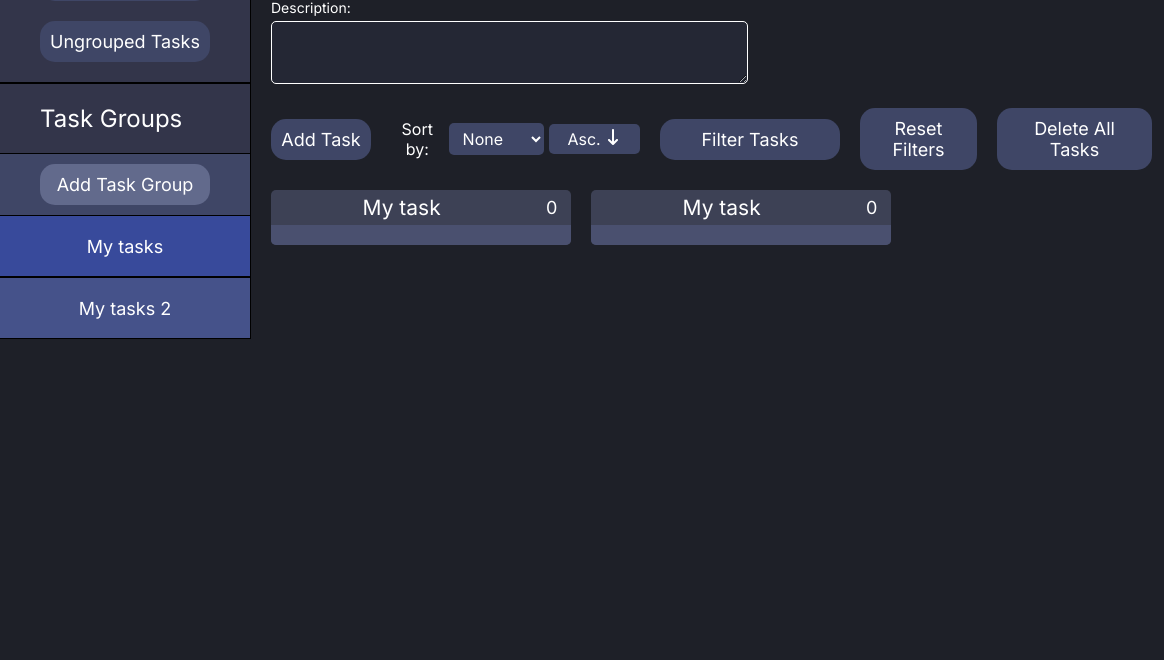
Test case: MainPage › An open task should stay open if the page is changed › Open task, go to different task group page, go back
Click the text with test id "task-component-name-text-id1".
click(402, 208)  # box [363,195,441,220]
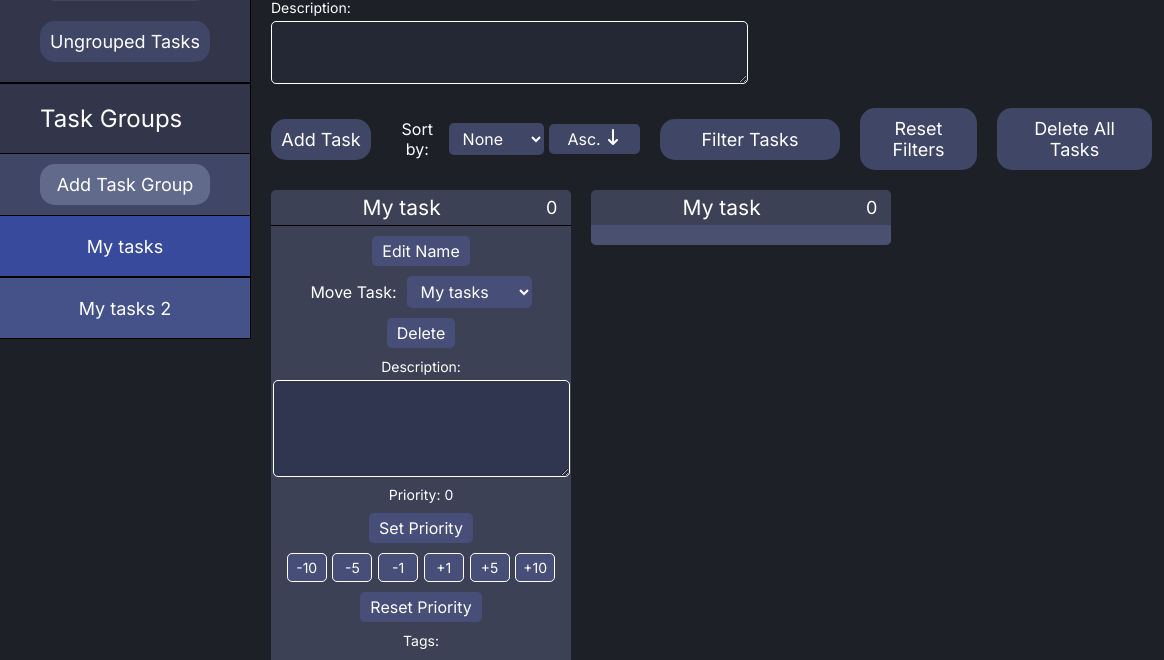
Click the text with test id "task-group-component-groupid2".
click(125, 308)  # box [0,277,250,339]
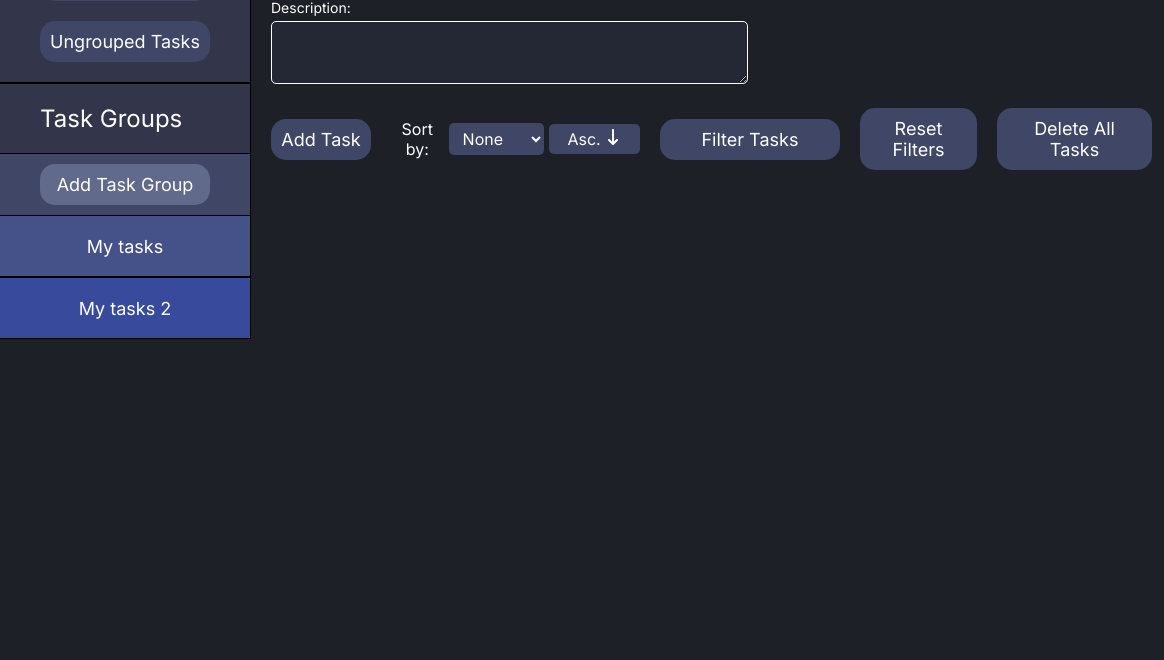
Click the text with test id "task-group-component-groupid1".
click(125, 246)  # box [0,215,250,277]
(page scrolled)
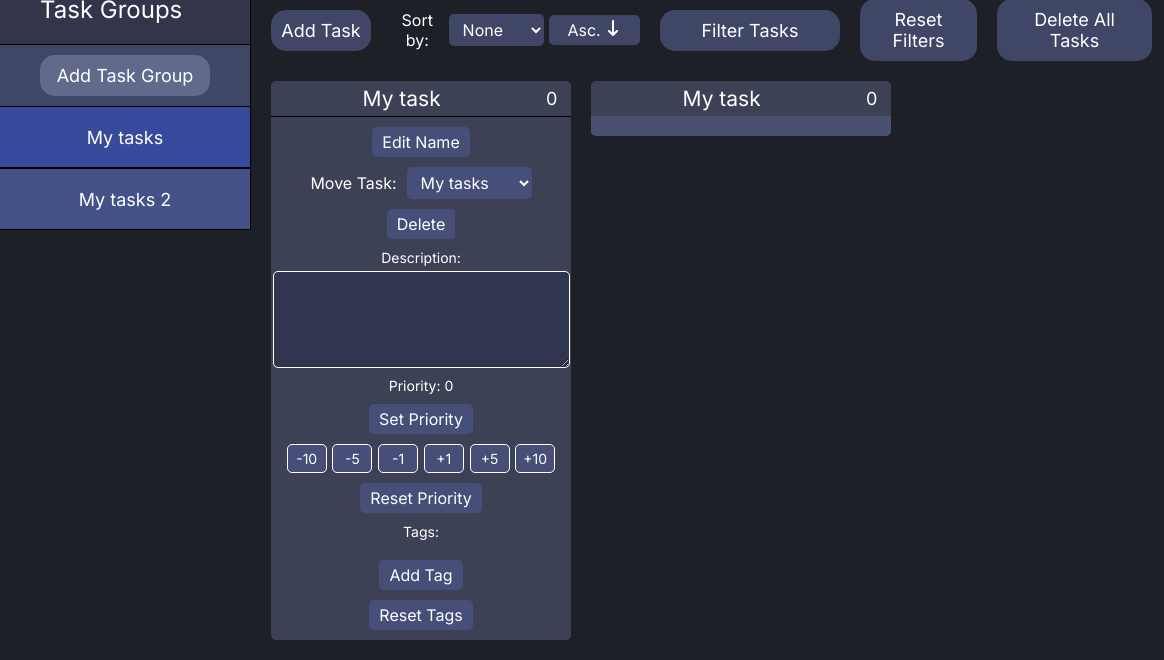
Expected: the element with test id "task-body-id1" is shown, [271,116,571,640]
